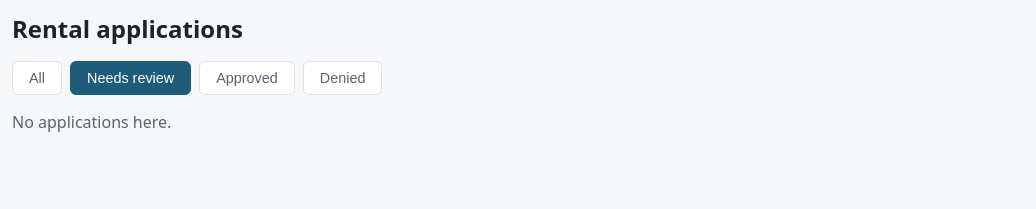
Scenario: AgentDashboard › switches tabs to filter by status
Expected: the text "No applications here." is shown, [12,111,171,133]
Click the tab "Approved" at (247, 78), box [199,61,295,95]
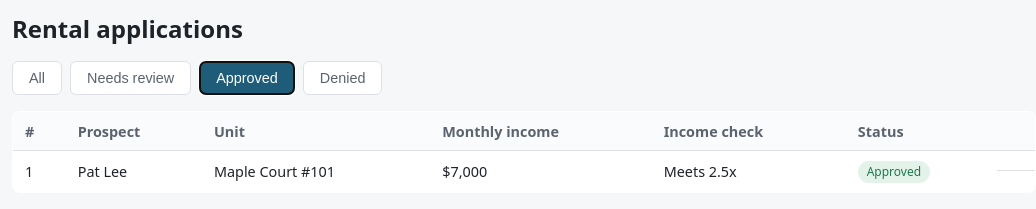
Expected: the text "Pat Lee" is shown, [66,151,202,193]
